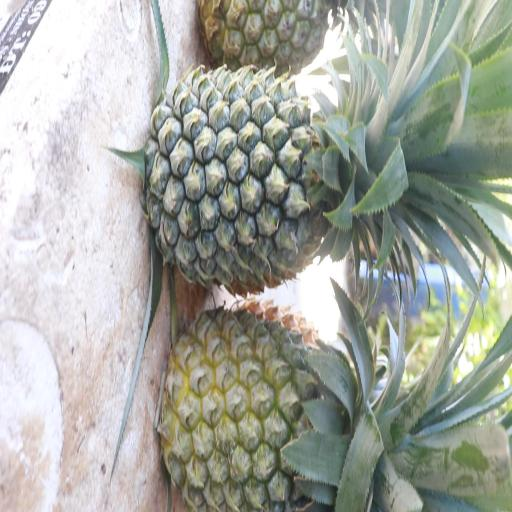------------------------------: (165, 303, 407, 512)
